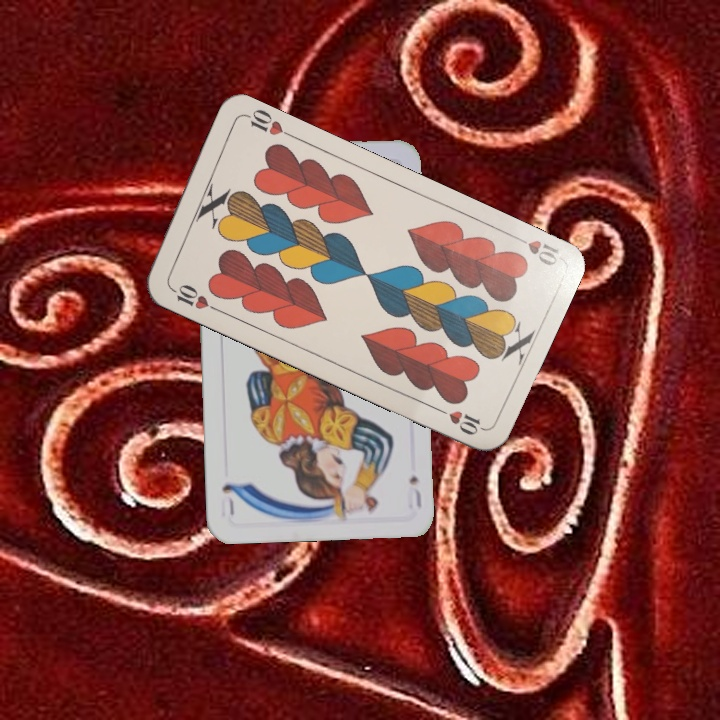H10: (507, 230, 562, 268), (164, 280, 220, 314)
SU: (403, 472, 424, 511)
